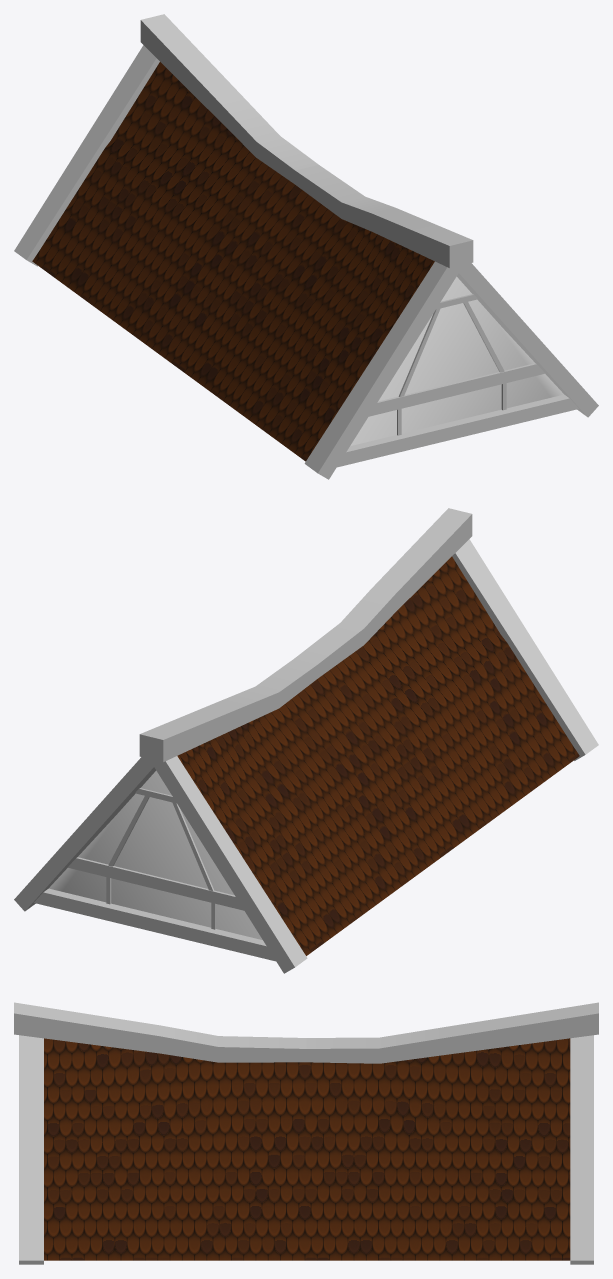
The model's file is Roof_Type4.fbx.
3 renders of one model, top to bottom at view 1: azimuth 30°, elevation 25°; view 2: azimuth 150°, elevation 25°; view 3: azimuth 270°, elevation 25°, orthographic. The views are drawn at different scales.
Parts seen in each view (by area): view 1: Roof_Type4; view 2: Roof_Type4; view 3: Roof_Type4.
Part boxes in pixels (x1=…): Roof_Type4: x1=14, y1=14, x2=598, y2=479; Roof_Type4: x1=14, y1=508, x2=598, y2=973; Roof_Type4: x1=14, y1=1002, x2=598, y2=1264.
Size of the model in its own units: 559 by 395 by 1064.
